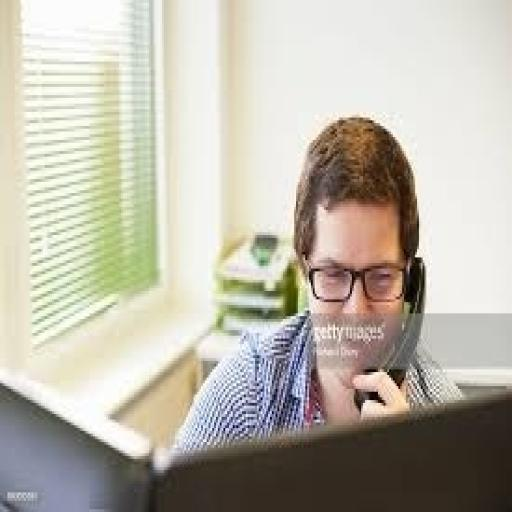calling: (170, 112, 466, 453)
